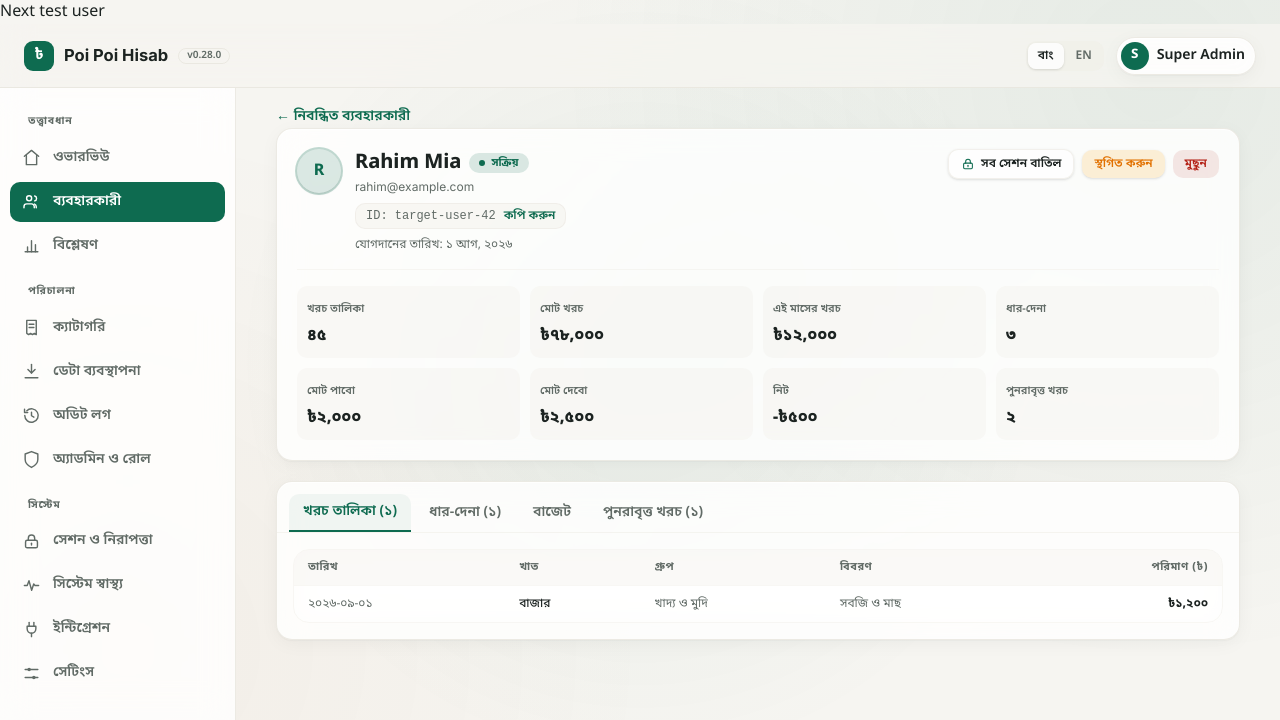
Test case: /admin/users/:userId › does not retain another user's identity after a failed route change
The width and height of the screenshot is (1280, 720).
Expected: the heading "Rahim Mia" is shown, [355,149,461,177]
Click the link "Next test user": (52, 12) [0,1,105,23]
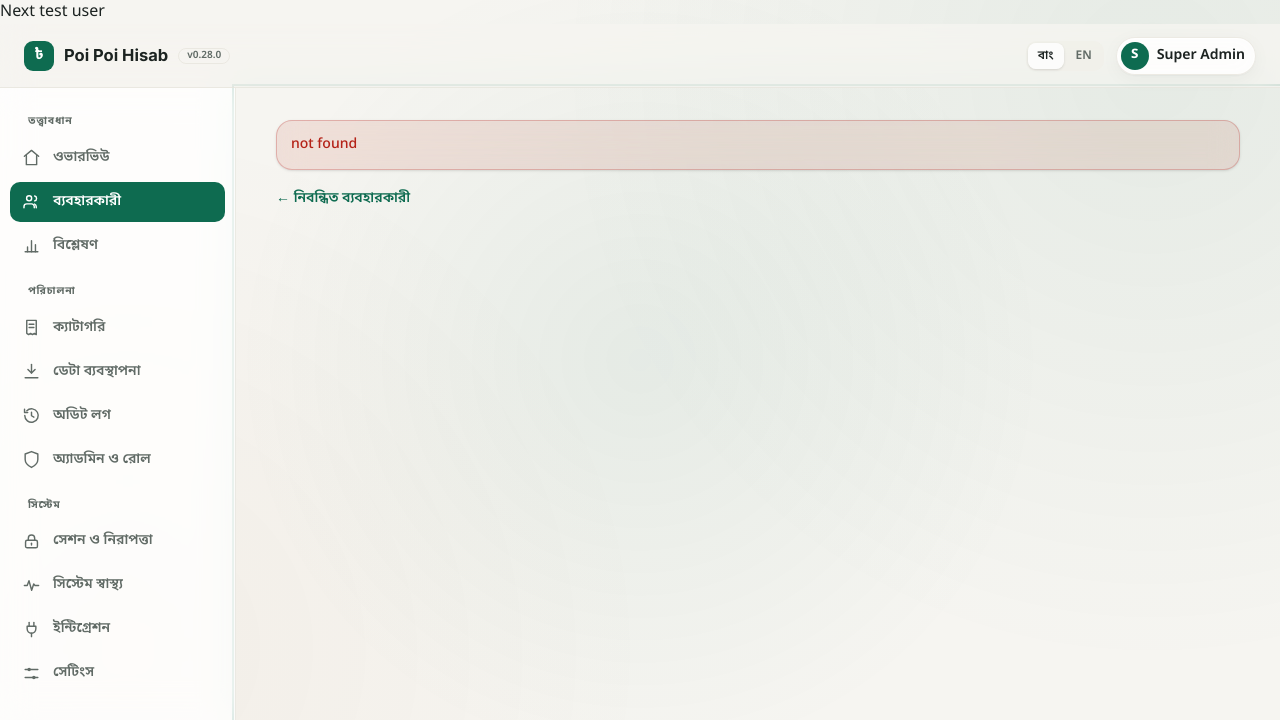
Expected: the message reads "not found", [291,135,357,154]
Expected: the heading "Rahim Mia" is gone
